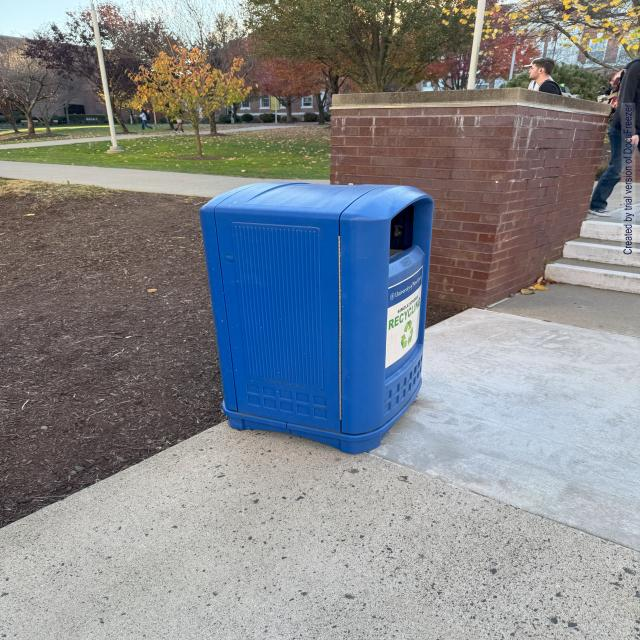Trash bin: (187, 170, 458, 462)
